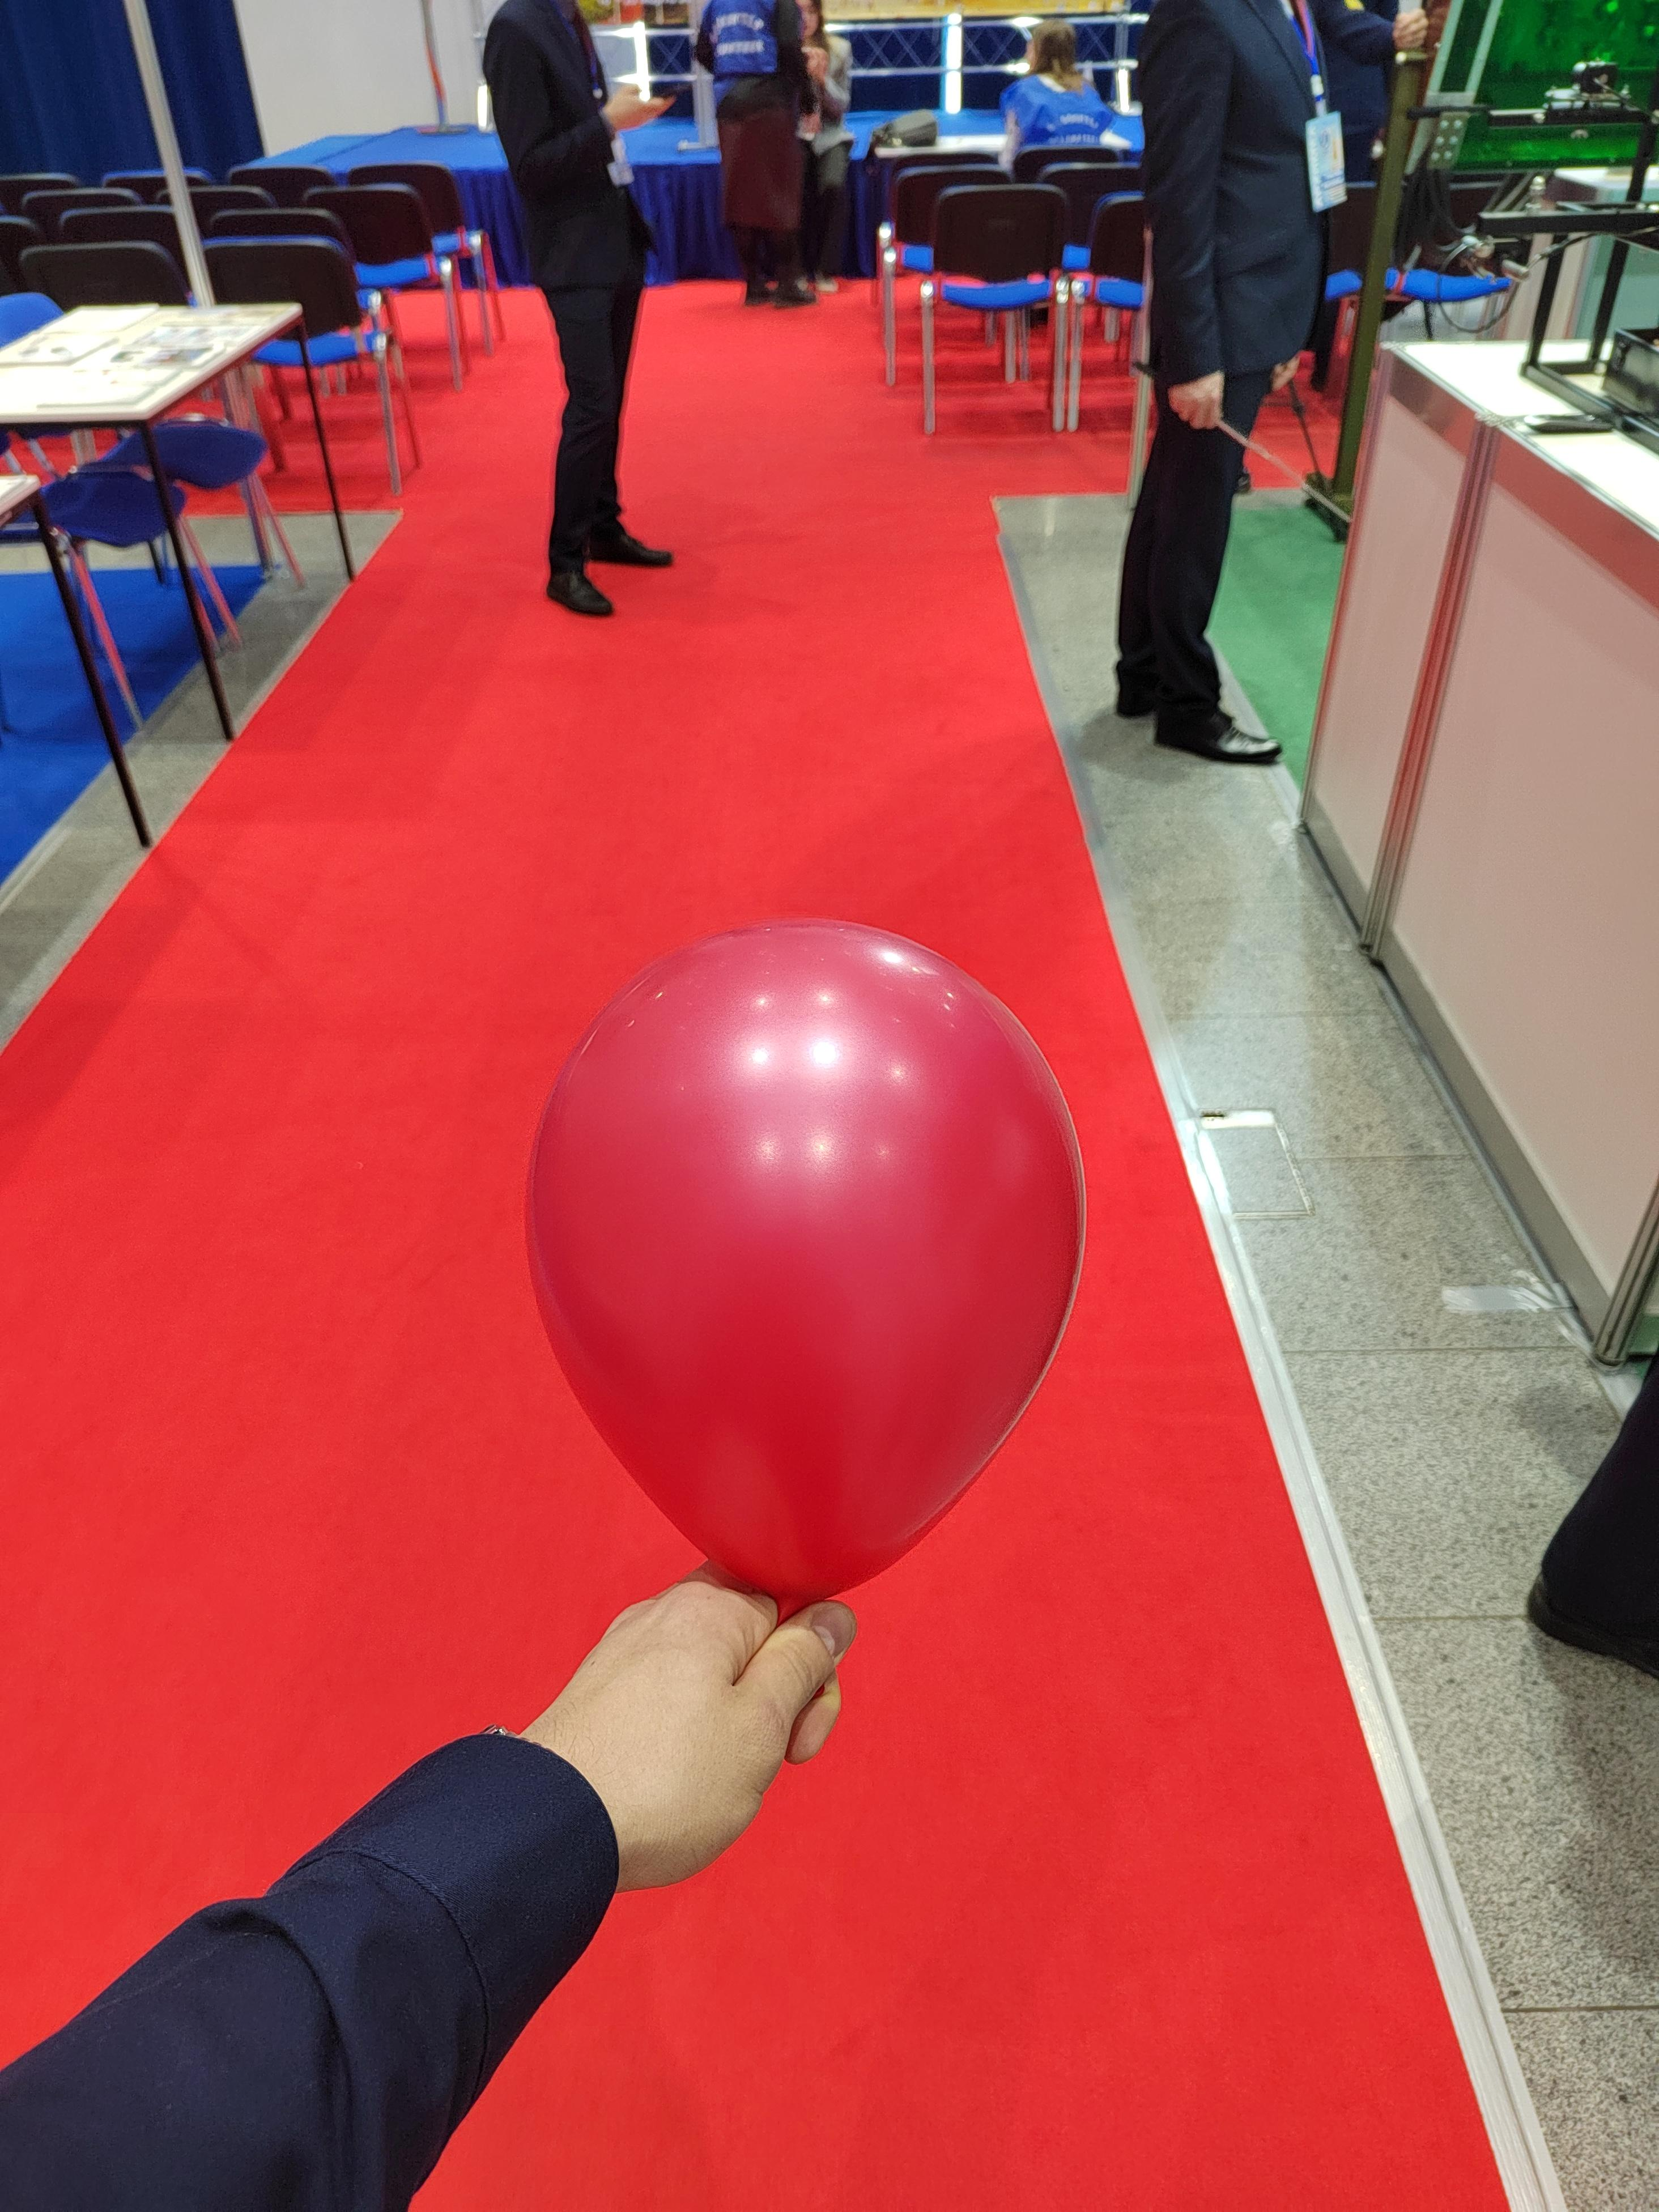red: (510, 891, 1084, 1614)
